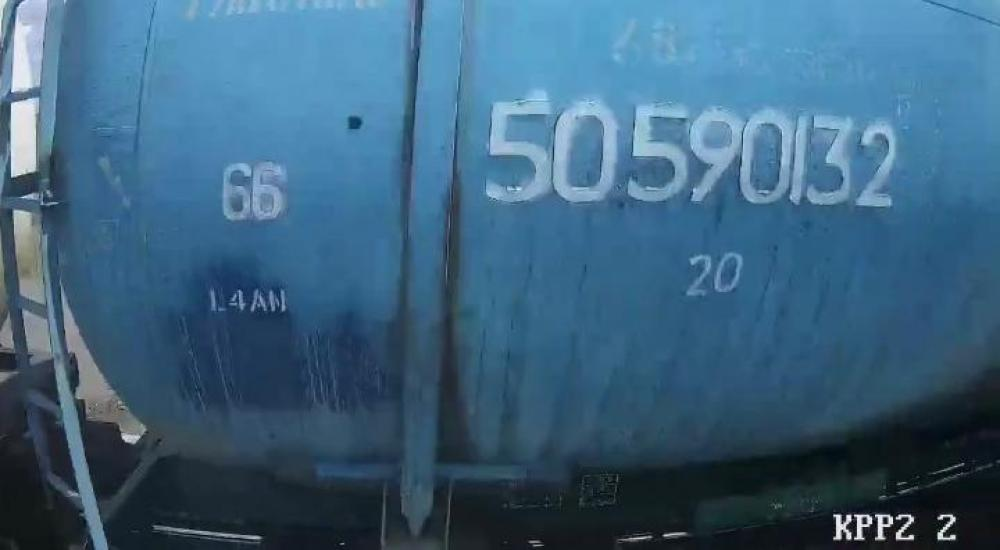Wagon-number: (479, 93, 899, 214)
